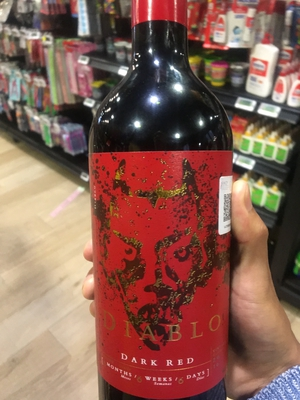diablo dark red: (74, 10, 263, 400)
